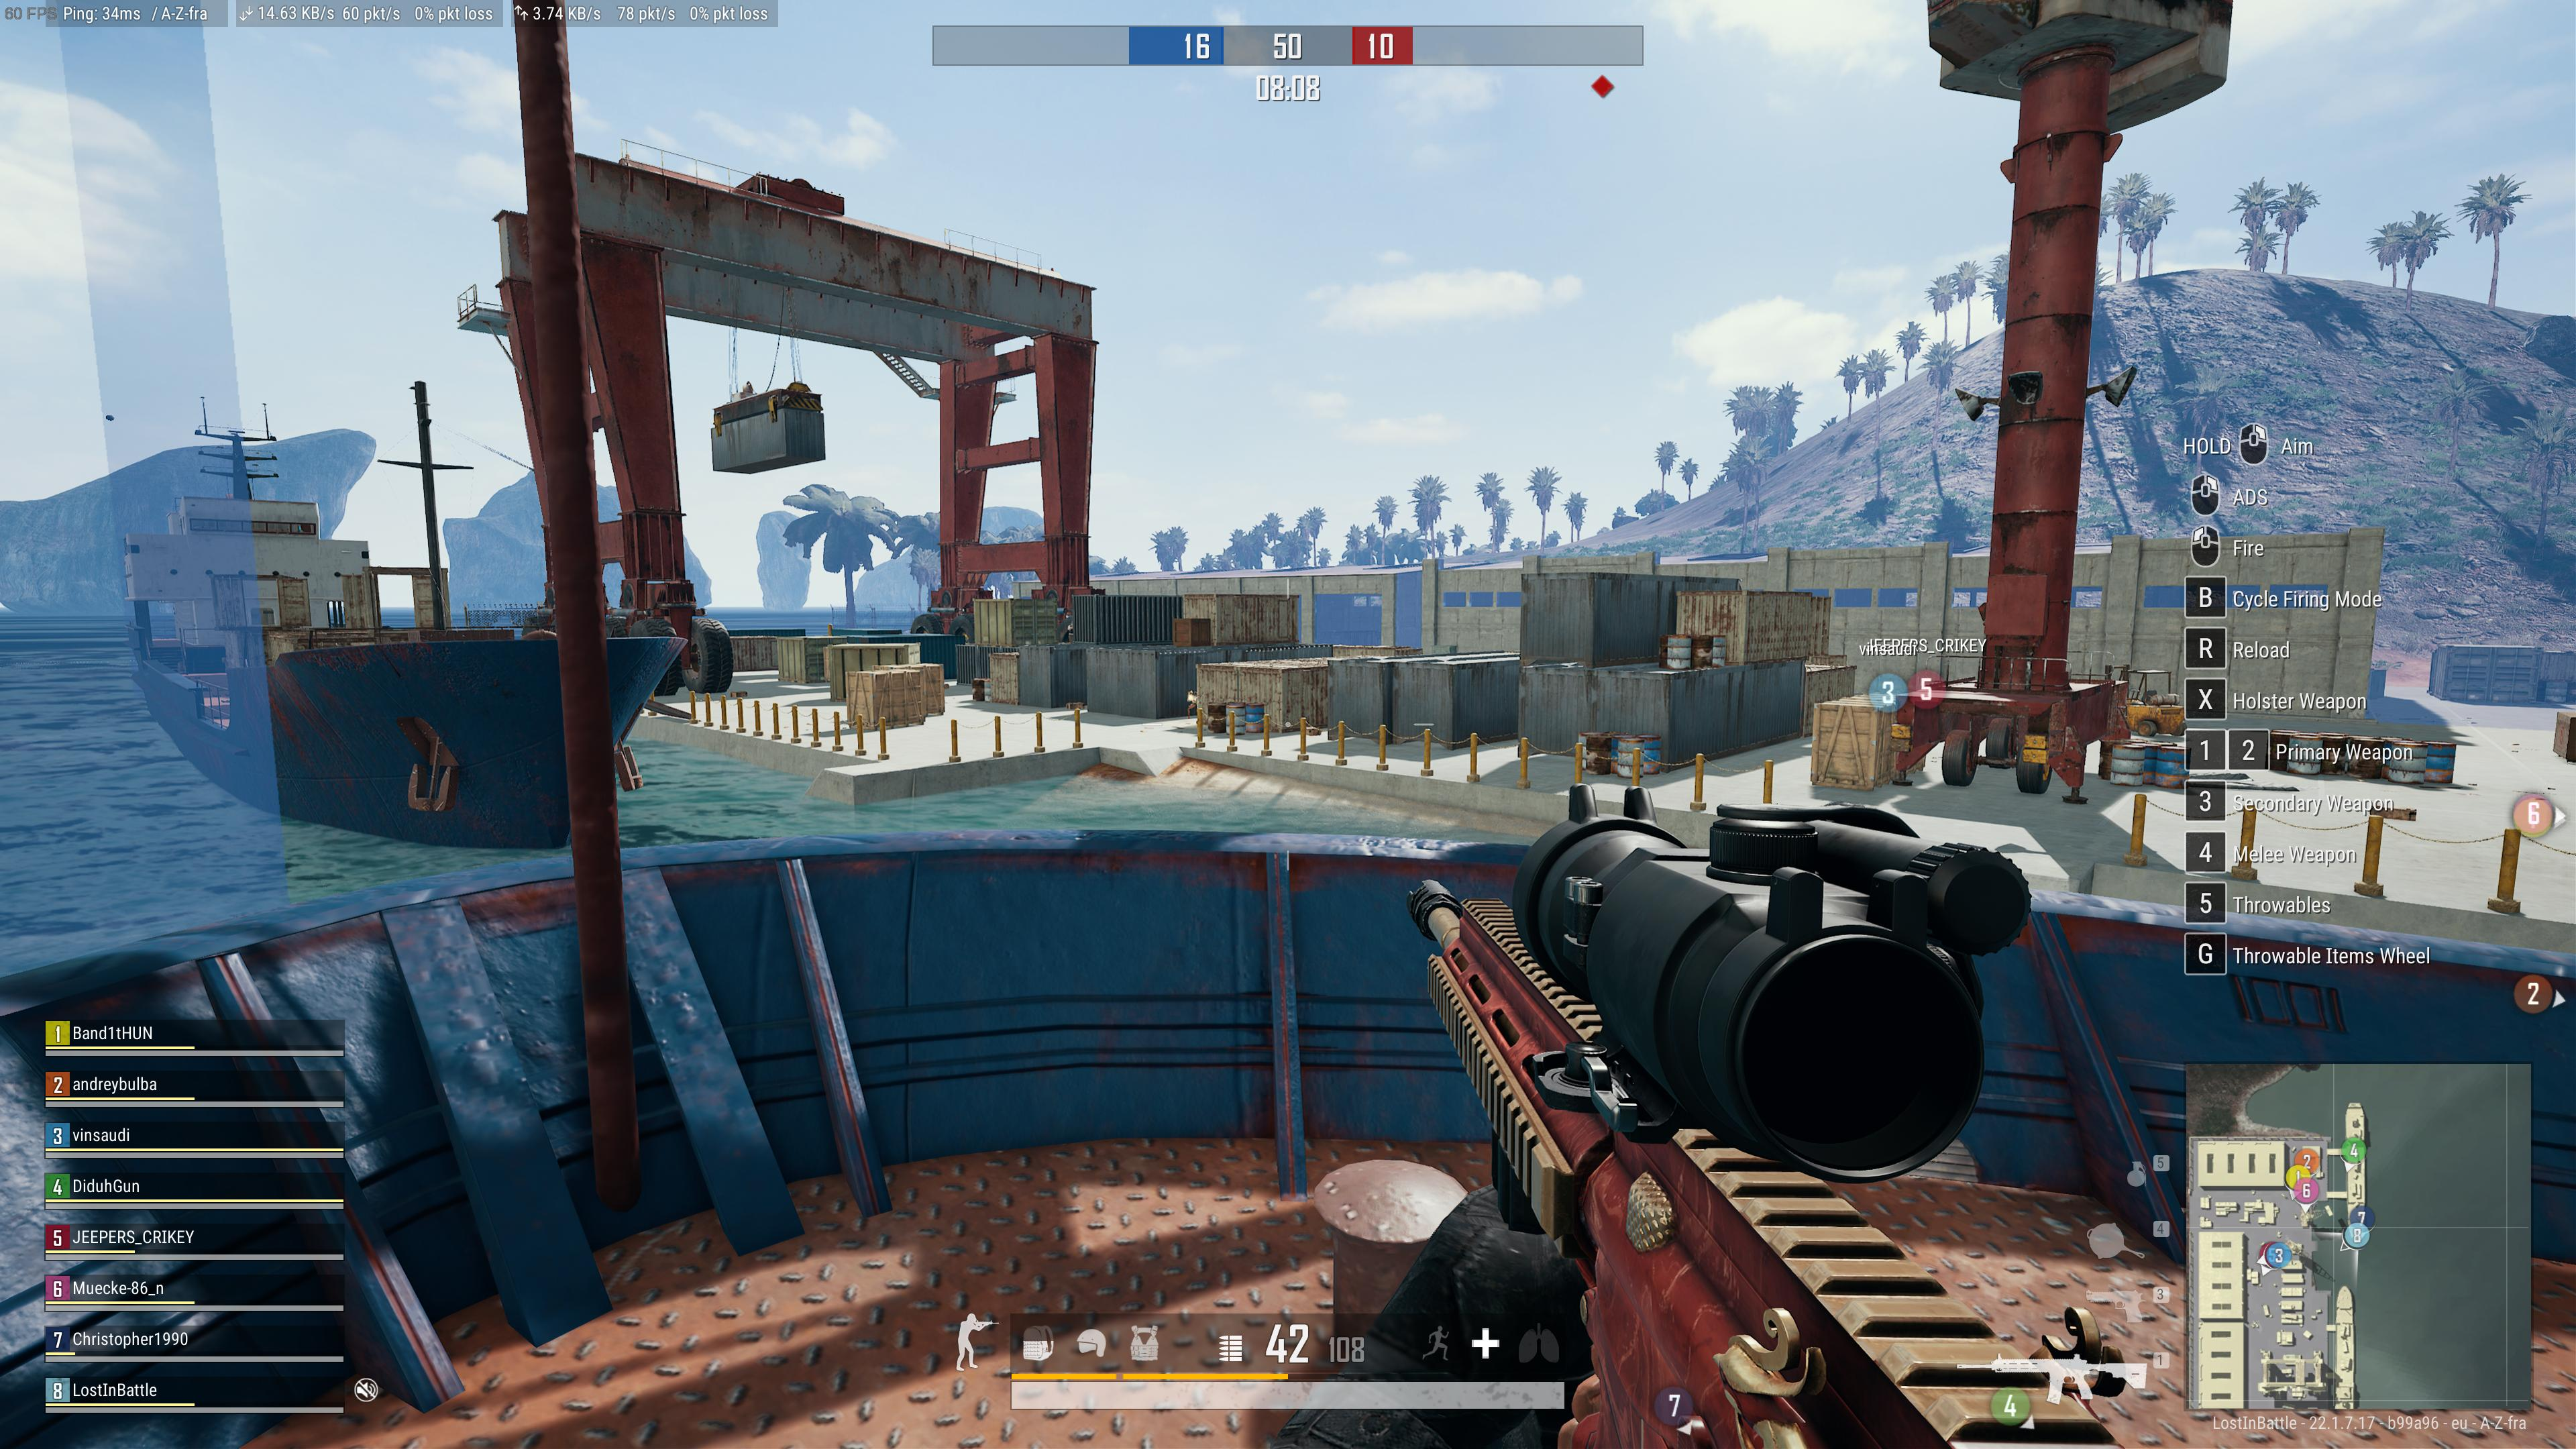enemy: (1184, 688, 1196, 718), (1067, 619, 1072, 642)
enemy_head: (1187, 688, 1192, 695)
